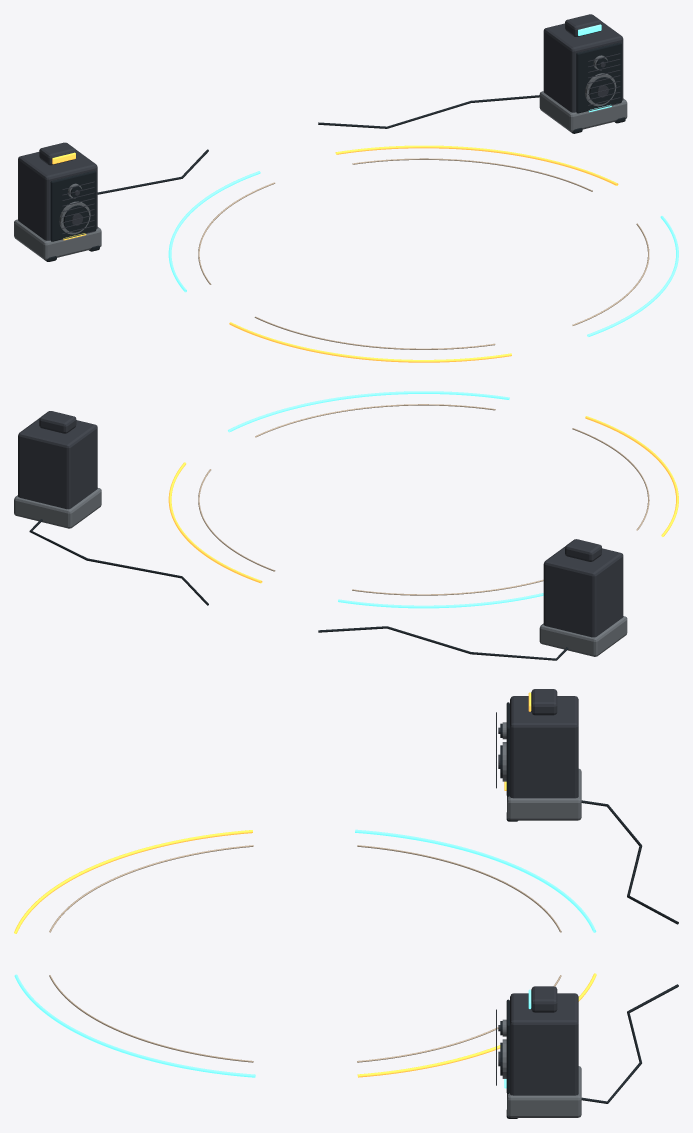
The model's file is festival-stage.glb.
3 renders of one model, top to bottom at view 1: azimuth 30°, elevation 25°; view 2: azimuth 150°, elevation 25°; view 3: azimuth 270°, elevation 25°, orthographic. The views are drawn at different scales.
Visible parts, largest first — view 1: Road case with steel corners.001, Road case with steel corners, Open fabric speaker grille, Open fabric speaker grille.001, Road case base.001, Road case base, Open floor segment, Open floor segment.002, Power cable lying on the concrete.001, Open floor segment.003, Open floor segment.001, White tape marker; view 2: Road case with steel corners, Road case with steel corners.001, Road case base, Road case base.001, Open floor segment.003, Power cable lying on the concrete, Open floor segment.001, Low worklight housing.001, Low worklight housing, Power cable lying on the concrete.001, Open floor segment, Open floor segment.002 (+1 smaller); view 3: Road case with steel corners, Road case with steel corners.001, Road case base, Road case base.001, Open floor segment.003, Open floor segment.001, Open floor segment.002, Low worklight housing.001, Low worklight housing, Open floor segment.
Boxes of the visible parts, box(x1,y1,x2,y2) form: Road case with steel corners.001: box(543, 21, 623, 112); Road case with steel corners: box(18, 149, 97, 240); Open fabric speaker grille: box(50, 170, 96, 241); Open fabric speaker grille.001: box(576, 42, 621, 113); Road case base.001: box(539, 91, 627, 131); Road case base: box(14, 219, 101, 260); Open floor segment: box(335, 145, 618, 185); Open floor segment.002: box(229, 322, 511, 362); Power cable lying on the concrete.001: box(318, 95, 539, 128); Open floor segment.003: box(587, 216, 678, 336); Open floor segment.001: box(168, 171, 260, 292); White tape marker: box(352, 158, 592, 191); Road case with steel corners: box(543, 546, 623, 637); Road case with steel corners.001: box(18, 418, 97, 509); Road case base: box(539, 616, 627, 656); Road case base.001: box(14, 488, 101, 528); Open floor segment.003: box(228, 391, 509, 432); Power cable lying on the concrete: box(318, 626, 568, 660); Open floor segment.001: box(338, 593, 543, 608); Low worklight housing.001: box(39, 411, 76, 433); Low worklight housing: box(565, 539, 601, 561); Power cable lying on the concrete.001: box(29, 519, 208, 605); Open floor segment: box(168, 462, 262, 583); Open floor segment.002: box(585, 416, 678, 536); Road case with steel corners: box(510, 696, 578, 798); Road case with steel corners.001: box(510, 993, 578, 1095); Road case base: box(507, 769, 581, 820); Road case base.001: box(507, 1066, 581, 1117); Open floor segment.003: box(14, 974, 255, 1077); Open floor segment.001: box(355, 829, 596, 932); Open floor segment.002: box(14, 830, 252, 933); Low worklight housing.001: box(531, 986, 557, 1012); Low worklight housing: box(531, 689, 557, 715); Open floor segment: box(357, 973, 596, 1077).
Bounding box in the file's own units: 8.66 × 1.37 × 7.37.
